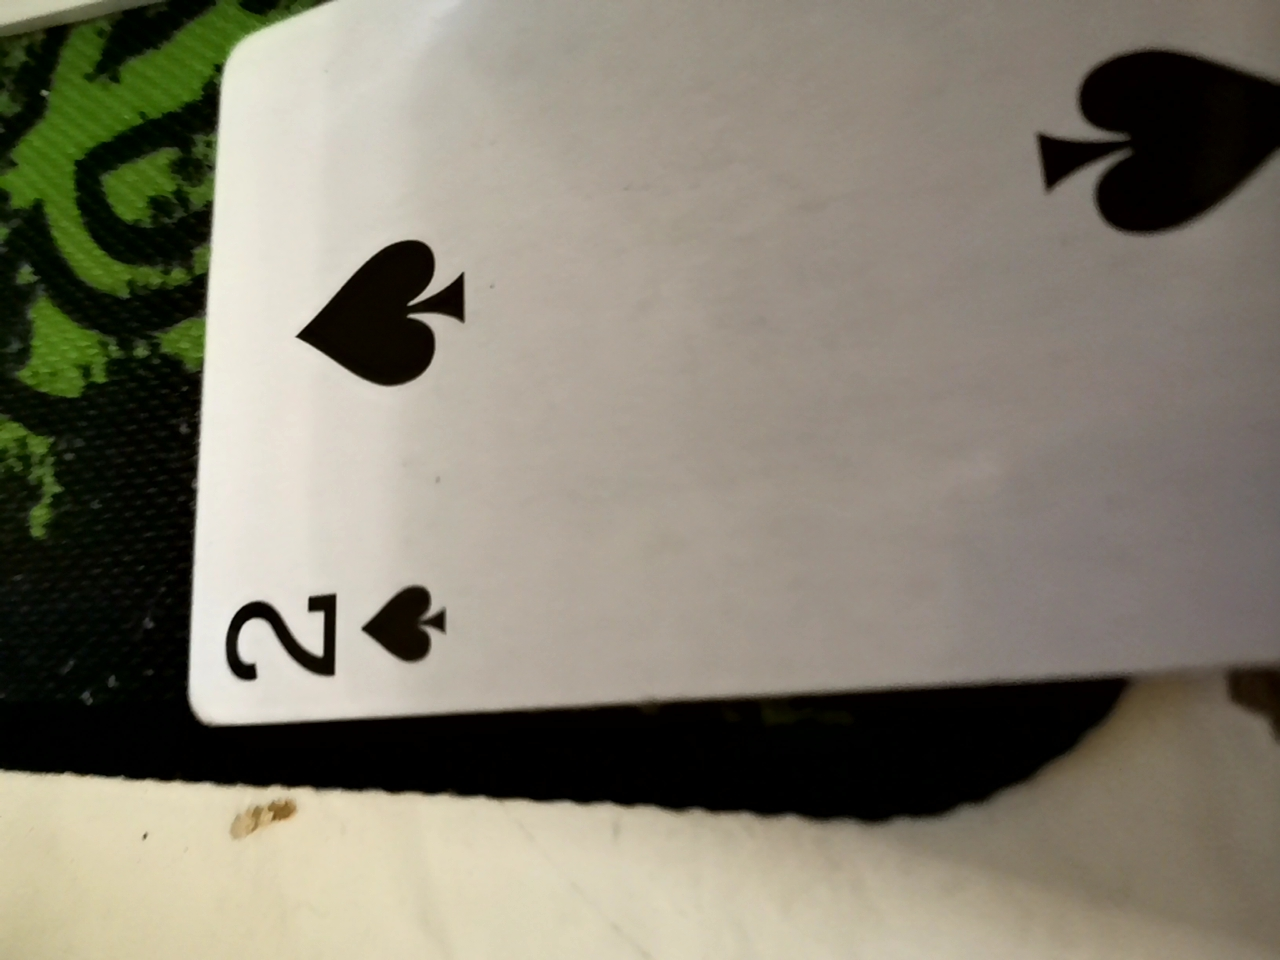ht 2: (177, 10, 1266, 759)
